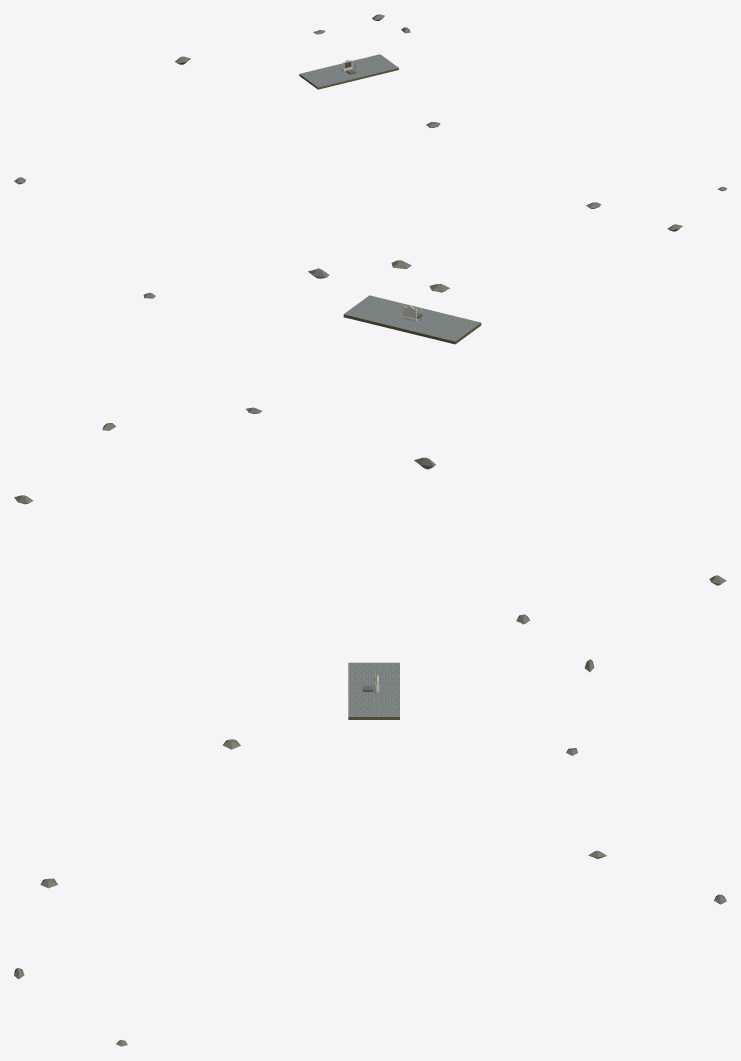
The model's file is nui-sam-lod.glb.
3 views of the same model, one above another, from view 1: azimuth 30°, elevation 25°; view 2: azimuth 150°, elevation 25°; view 3: azimuth 270°, elevation 25° (orthographic). The views are drawn at different scales.
Parts seen in each view (by area): view 1: nui-sam-far; view 2: nui-sam-far; view 3: nui-sam-far.
Boxes of the visible parts, x1=… form: nui-sam-far: x1=14, y1=14, x2=726, y2=231; nui-sam-far: x1=14, y1=260, x2=726, y2=585; nui-sam-far: x1=14, y1=614, x2=726, y2=1046.
Bounding box in the file's own units: 149 × 33.02 × 118.
1 material, 1 textured.
